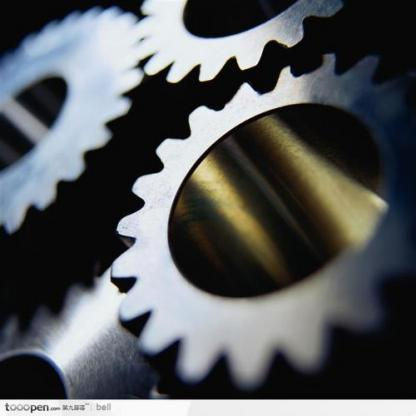FOD: (105, 48, 415, 412), (128, 0, 373, 97)
